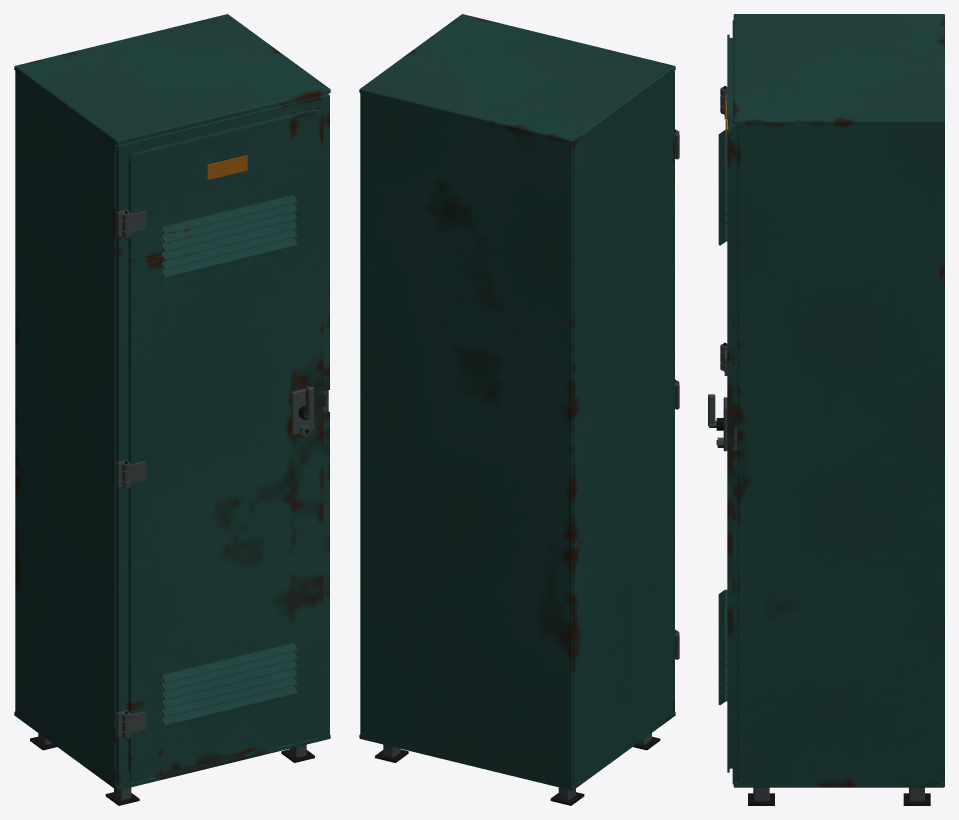
Rendered from steel_locker.glb.
3 views of the same model, side by side, from view 1: azimuth 30°, elevation 25°; view 2: azimuth 150°, elevation 25°; view 3: azimuth 270°, elevation 25° (orthographic). The views are drawn at different scales.
Visible parts, largest first — view 1: LockerDoor, LockerBody; view 2: LockerBody; view 3: LockerBody, LockerDoor.
Boxes of the visible parts, left/top/right/bottom form: LockerDoor: left=122, top=108, right=323, bottom=780; LockerBody: left=14, top=14, right=330, bottom=805; LockerBody: left=359, top=14, right=679, bottom=805; LockerBody: left=720, top=14, right=944, bottom=805; LockerDoor: left=716, top=34, right=734, bottom=772.
Size of what is drawn, in the model's own units: 0.603 by 1.8 by 0.5605.
4 materials, 4 textured.
